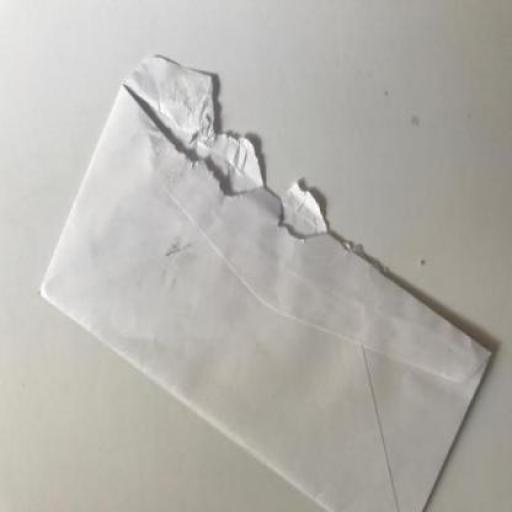paper: (38, 54, 491, 511)
